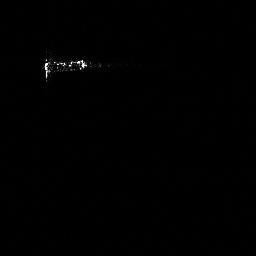ship: (39, 53, 90, 83)
